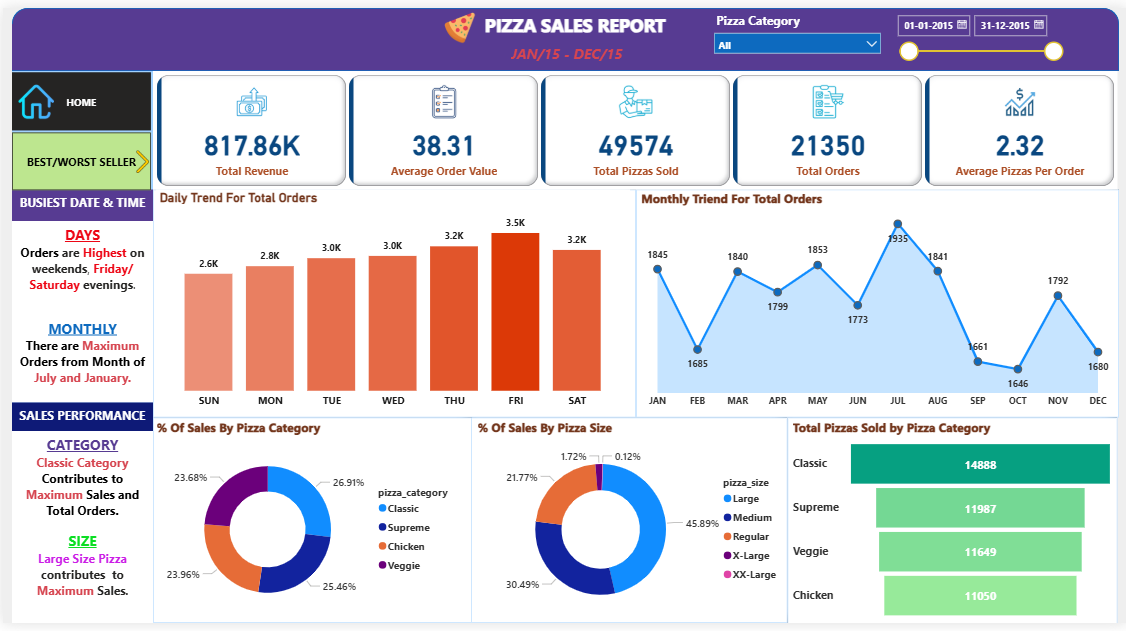

Layout of this report page (visuals, bound fields, positions):
{"tool":"powerbi","page":{"name":"HOME","canvas":[1500,820],"ordinal":0},"visuals":[{"type":"shape","box":[12,0,1476,84],"z":0},{"type":"textbox","box":[578,0,370,48],"z":1},{"type":"image","box":[578,0,62,52],"z":2},{"type":"textbox","box":[672,42,206,42],"z":3},{"type":"shape","box":[200,242,644,304],"z":4},{"type":"shape","box":[844,242,644,304],"z":5},{"type":"shape","box":[200,546,426,274],"z":8},{"type":"shape","box":[624,546,422,274],"z":9},{"type":"shape","box":[1045,545,440,275],"z":10},{"type":"cardVisual","fields":{"Data":["pizza_sales.Total Revenue","pizza_sales.Average Order Value","pizza_sales.Total Pizzas Sold","pizza_sales.Total Orders","pizza_sales.Average Pizzas Per Order"]},"box":[200,84,1286,158],"z":12},{"type":"textbox","box":[12,84,188,736],"z":13},{"type":"textbox","box":[12,242,188,42],"z":14},{"type":"textbox","box":[12,284,188,242],"z":15},{"type":"textbox","box":[12,526,188,38],"z":16},{"type":"textbox","box":[12,564,188,256],"z":17},{"type":"columnChart","title":"Daily Trend For Total Orders","fields":{"Y":["pizza_sales.Total Orders"],"Category":["pizza_sales.Order Day"]},"box":[204,242,632,300],"z":18},{"type":"lineChart","title":"Monthly Triend For Total Orders","fields":{"Category":["pizza_sales.Order Month"],"Y":["pizza_sales.Total Orders"]},"box":[845,242.5,640,300],"z":19},{"type":"donutChart","title":"% Of Sales By Pizza Category","fields":{"Category":["pizza_sales.pizza_category"],"Y":["pizza_sales.Total Revenue"]},"box":[200,547.5,420,272.5],"z":20},{"type":"donutChart","title":"% Of Sales By Pizza Size","fields":{"Category":["pizza_sales.pizza_size"],"Y":["pizza_sales.Total Revenue"]},"box":[627.5,547.5,420,272.5],"z":21},{"type":"funnel","title":"Total Pizzas Sold by Pizza Category","fields":{"Y":["pizza_sales.Total Pizzas Sold"],"Category":["pizza_sales.pizza_category"]},"box":[1047.5,547.5,437.5,272.5],"z":22},{"type":"slicer","fields":{"Values":["pizza_sales.pizza_category"]},"box":[937.5,0,242.5,85],"z":23},{"type":"slicer","fields":{"Values":["pizza_sales.order_date"]},"box":[1180,0,242.5,85],"z":24},{"type":"pageNavigator","box":[12.5,85,185,77.5],"z":25},{"type":"pageNavigator","box":[12.5,165,185,77.5],"z":26},{"type":"image","box":[12.5,95,65,57.5],"z":27},{"type":"image","box":[165,165,40,77.5],"z":28}]}

Visuals, with their boxes in screenshot pixels (x1, y1, x2, y2), scaled from the page's 1500x820 canvas onto the 1126x631 screenshot:
shape: bbox(9, 0, 1117, 65)
textbox: bbox(434, 0, 712, 37)
image: bbox(434, 0, 480, 40)
textbox: bbox(504, 32, 659, 65)
shape: bbox(150, 186, 634, 420)
shape: bbox(634, 186, 1117, 420)
shape: bbox(150, 420, 470, 630)
shape: bbox(468, 420, 785, 630)
shape: bbox(784, 419, 1115, 630)
cardVisual - pizza_sales.Total Revenue x pizza_sales.Average Order Value: bbox(150, 65, 1115, 186)
textbox: bbox(9, 65, 150, 630)
textbox: bbox(9, 186, 150, 219)
textbox: bbox(9, 219, 150, 405)
textbox: bbox(9, 405, 150, 434)
textbox: bbox(9, 434, 150, 630)
"Daily Trend For Total Orders" columnChart: bbox(153, 186, 628, 417)
"Monthly Triend For Total Orders" lineChart: bbox(634, 187, 1115, 417)
"% Of Sales By Pizza Category" donutChart: bbox(150, 421, 465, 630)
"% Of Sales By Pizza Size" donutChart: bbox(471, 421, 786, 630)
"Total Pizzas Sold by Pizza Category" funnel: bbox(786, 421, 1115, 630)
slicer - pizza_sales.pizza_category: bbox(704, 0, 886, 65)
slicer - pizza_sales.order_date: bbox(886, 0, 1068, 65)
pageNavigator: bbox(9, 65, 148, 125)
pageNavigator: bbox(9, 127, 148, 187)
image: bbox(9, 73, 58, 117)
image: bbox(124, 127, 154, 187)
